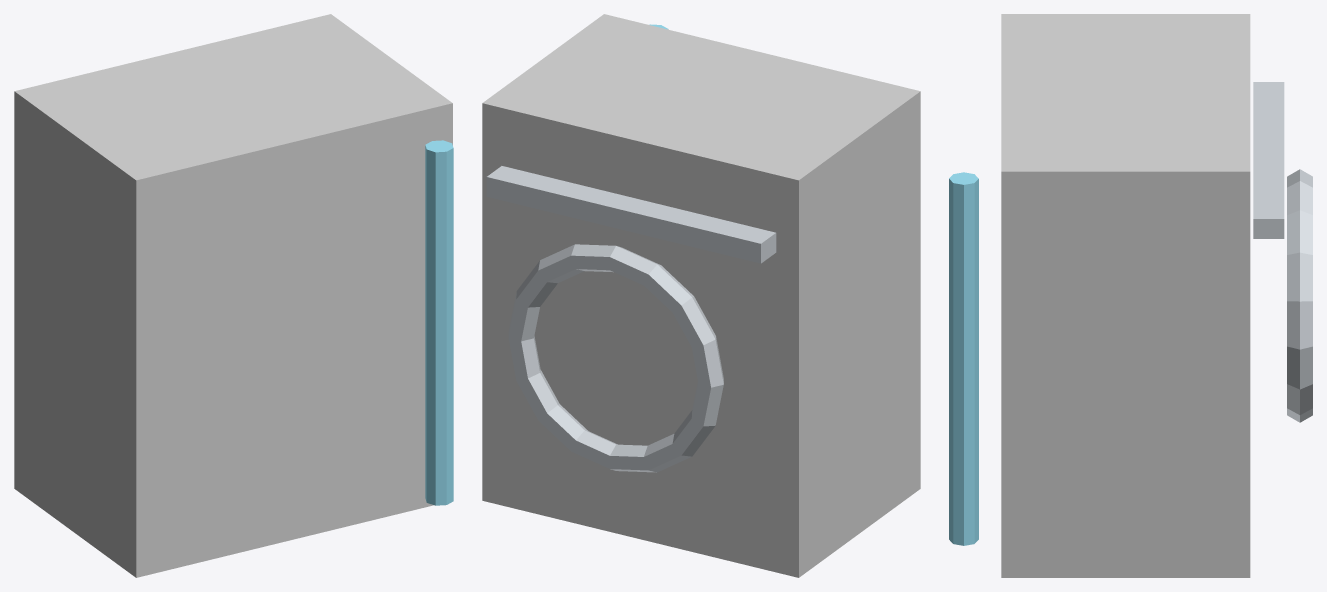
Rendered from refri_1.glb.
3 renders of one model, left to right at view 1: azimuth 30°, elevation 25°; view 2: azimuth 150°, elevation 25°; view 3: azimuth 270°, elevation 25°, orthographic. The views are drawn at different scales.
Parts seen in each view (by area): view 1: cuerpo, tubo; view 2: cuerpo, ventilador, aleta; view 3: cuerpo, tubo, ventilador, aleta.
Part boxes in pixels (<box>): cuerpo: <box>14,14,452,577</box>; tubo: <box>425,140,453,505</box>; cuerpo: <box>482,14,920,577</box>; ventilador: <box>508,244,723,472</box>; aleta: <box>486,166,776,263</box>; cuerpo: <box>1001,14,1250,577</box>; tubo: <box>949,172,978,545</box>; ventilador: <box>1287,169,1312,422</box>; aleta: <box>1253,82,1284,238</box>.
Size of the model in its own units: 0.75 by 0.9 by 0.731.
